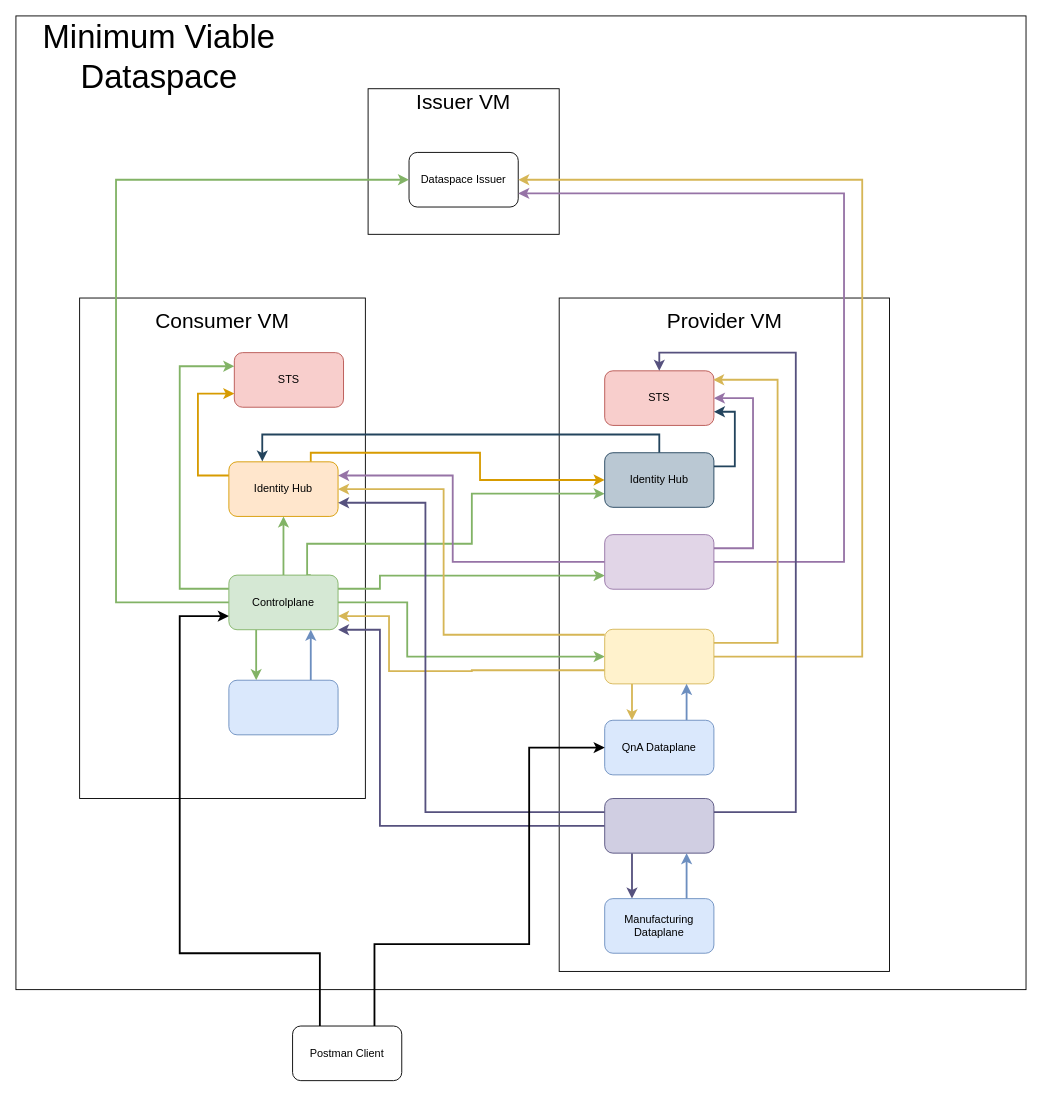
The diagram is 1042 pixels wide and 1097 high, and some of its shapes have lost their labels. The shapes that lost their labels are listed below. From the top down, each one's centre as x and y in pixels, then its label:
point (659, 561): Catalog Server
point (659, 656): QnA Controlplane
point (283, 707): Dataplane
point (659, 825): Manufacturing Controlplane
